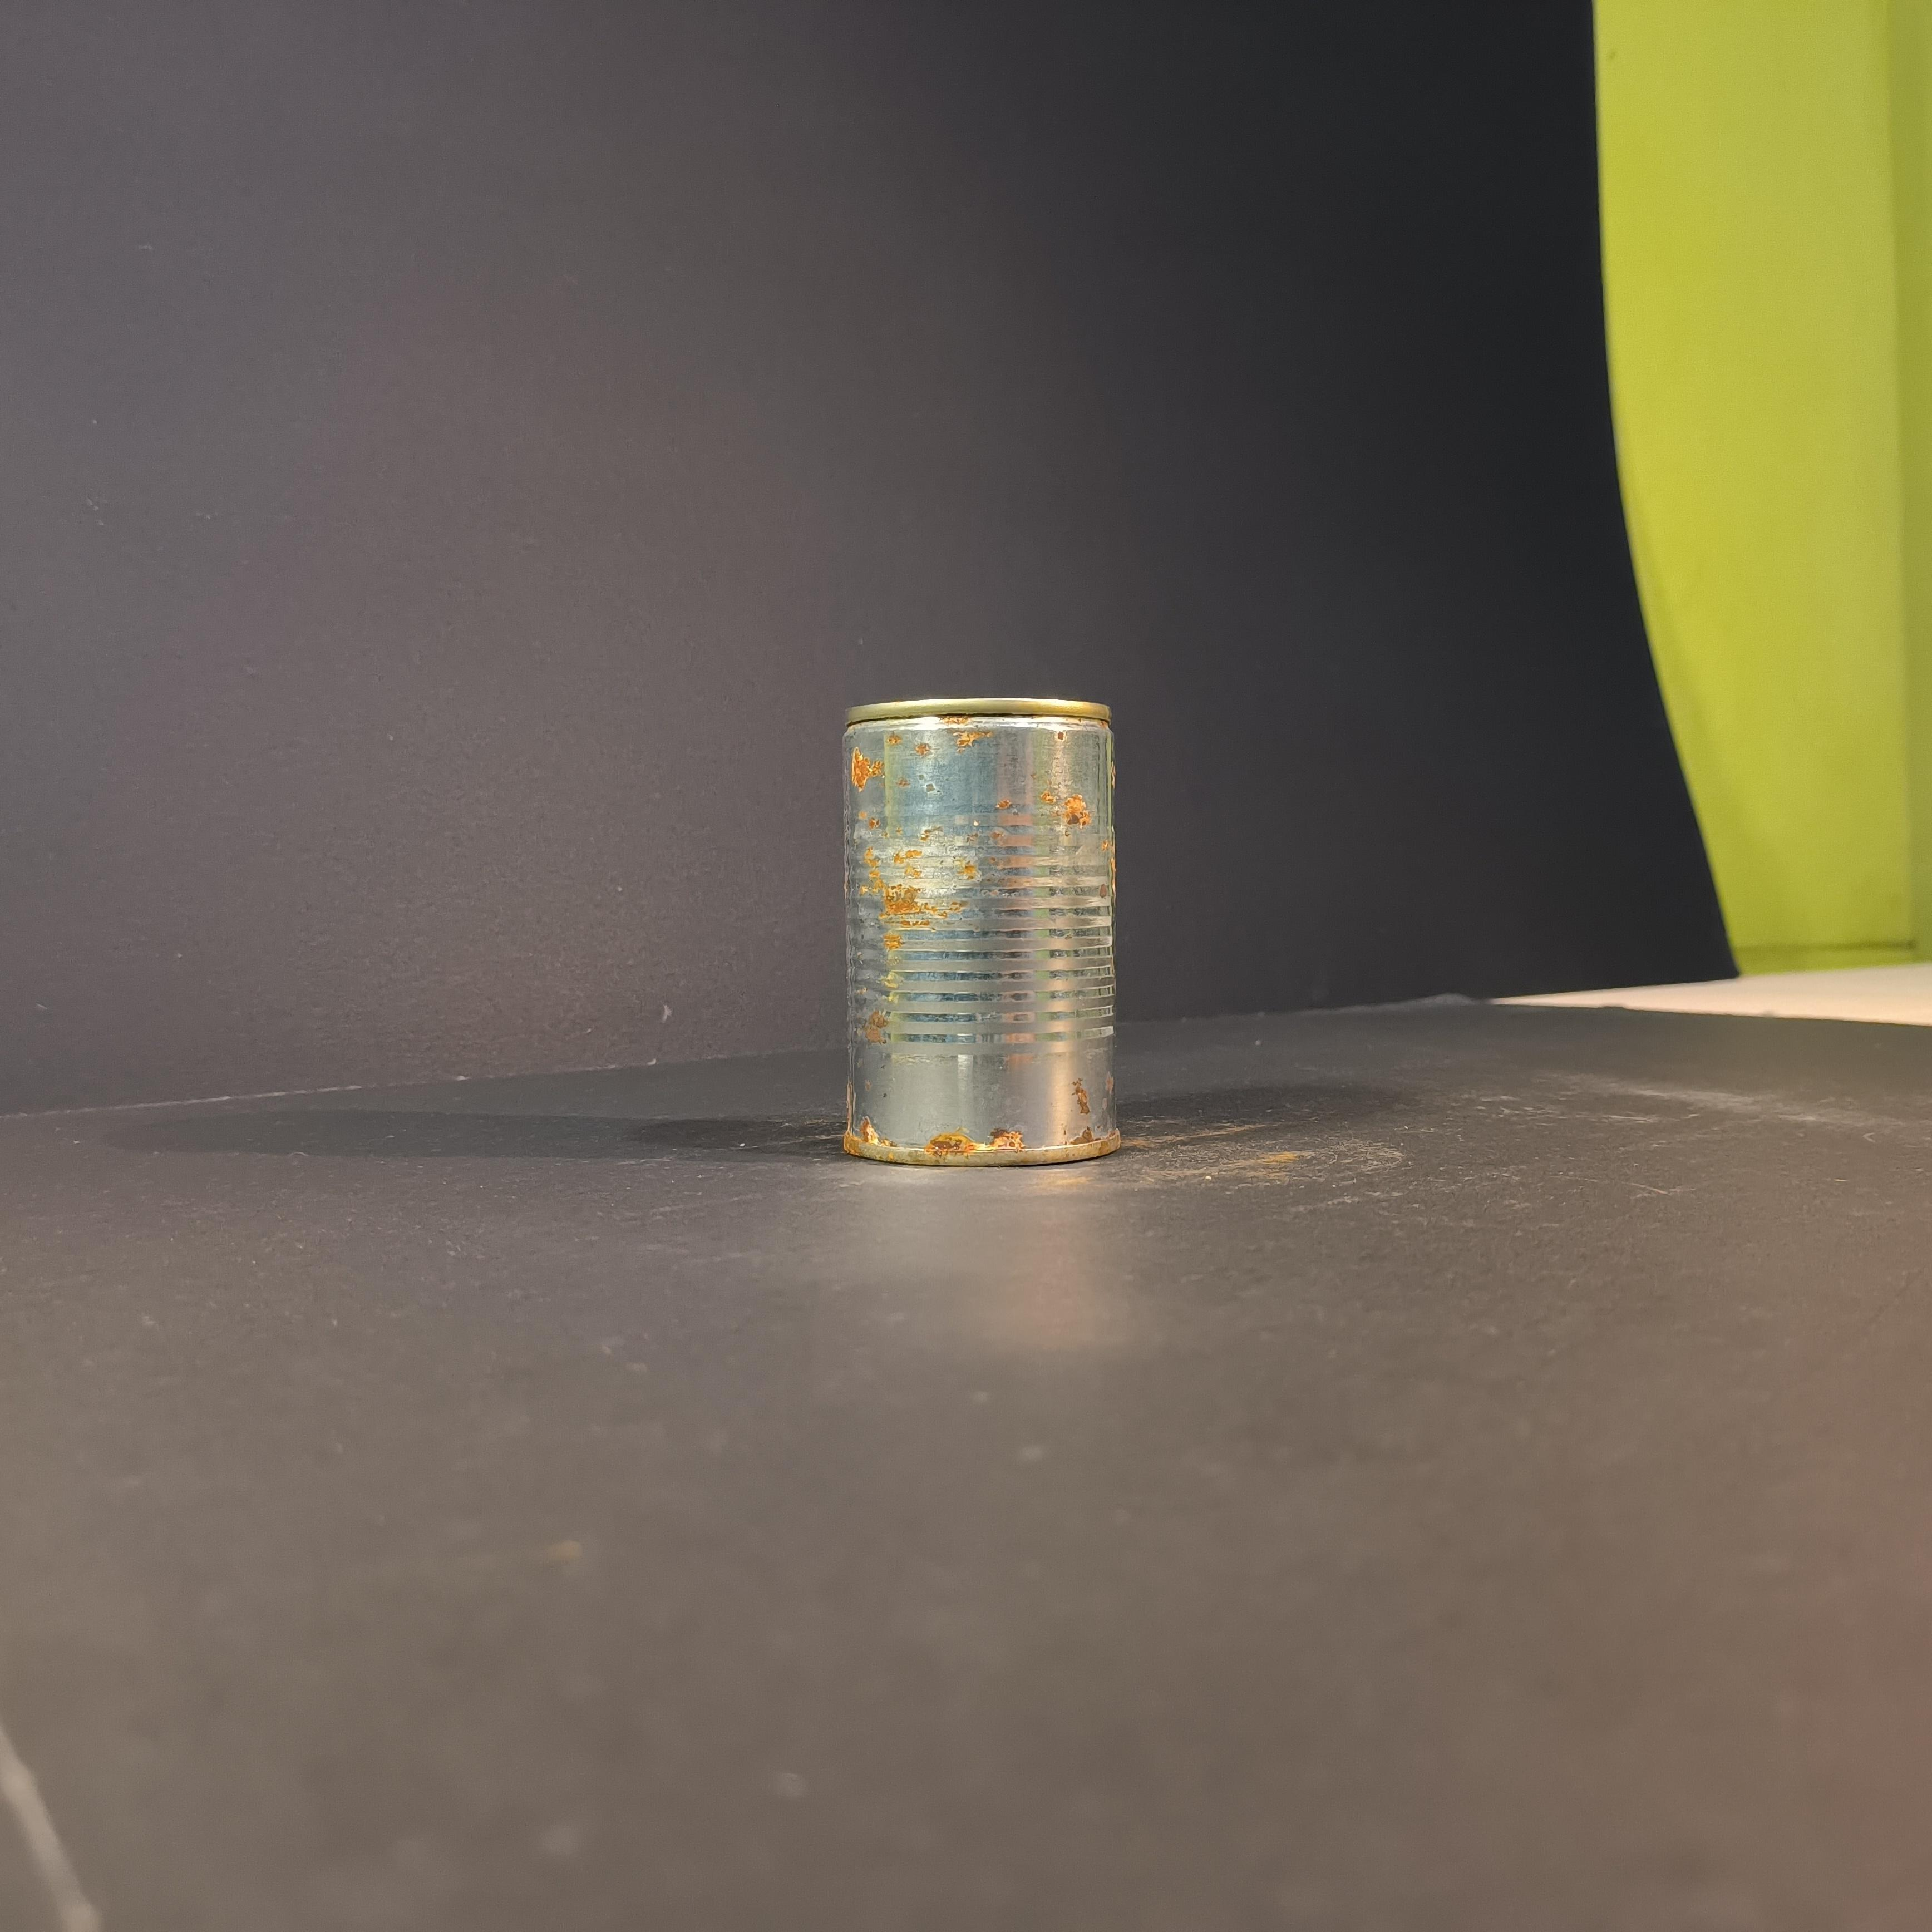Rusted: (826, 665, 1162, 1185)
